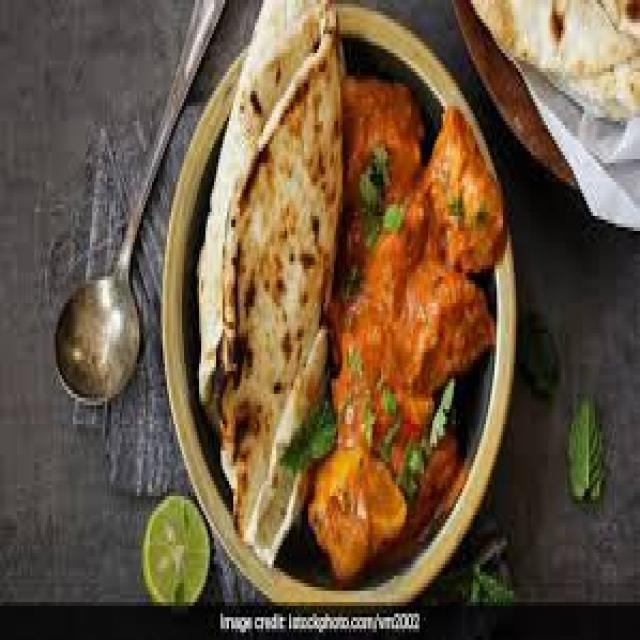Butter Chicken: (335, 28, 506, 589)
